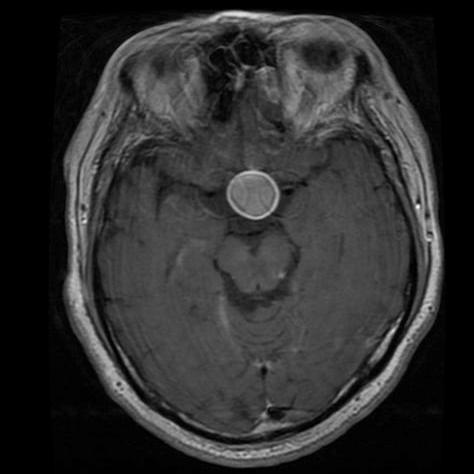Tumour-Pituitary: (225, 169, 281, 223)
